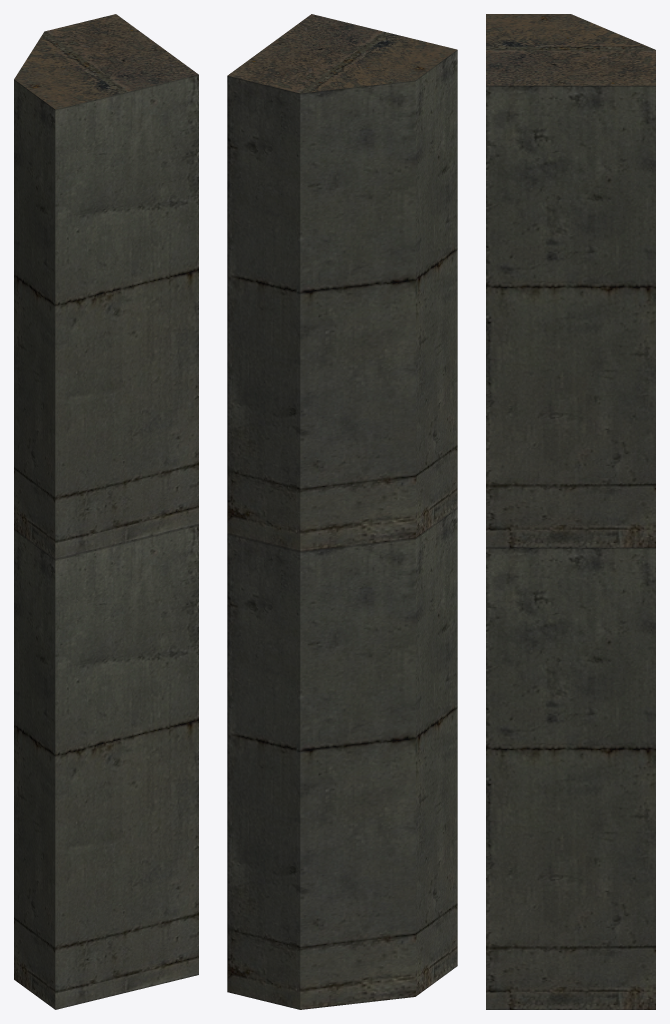
File: pillar_rg_6.obj
The picture shows the model from 3 angles, left to right: view 1: azimuth 30°, elevation 25°; view 2: azimuth 150°, elevation 25°; view 3: azimuth 270°, elevation 25°; orthographic projection. The views are drawn at different scales.
Parts seen in each view (by area): view 1: pillar_rg_6; view 2: pillar_rg_6; view 3: pillar_rg_6.
Boxes of the visible parts, bbox=[...] form: pillar_rg_6: bbox=[14, 14, 198, 1009]; pillar_rg_6: bbox=[227, 14, 457, 1009]; pillar_rg_6: bbox=[486, 14, 655, 1009].
Size of the model in its own units: 1 by 6 by 1.
